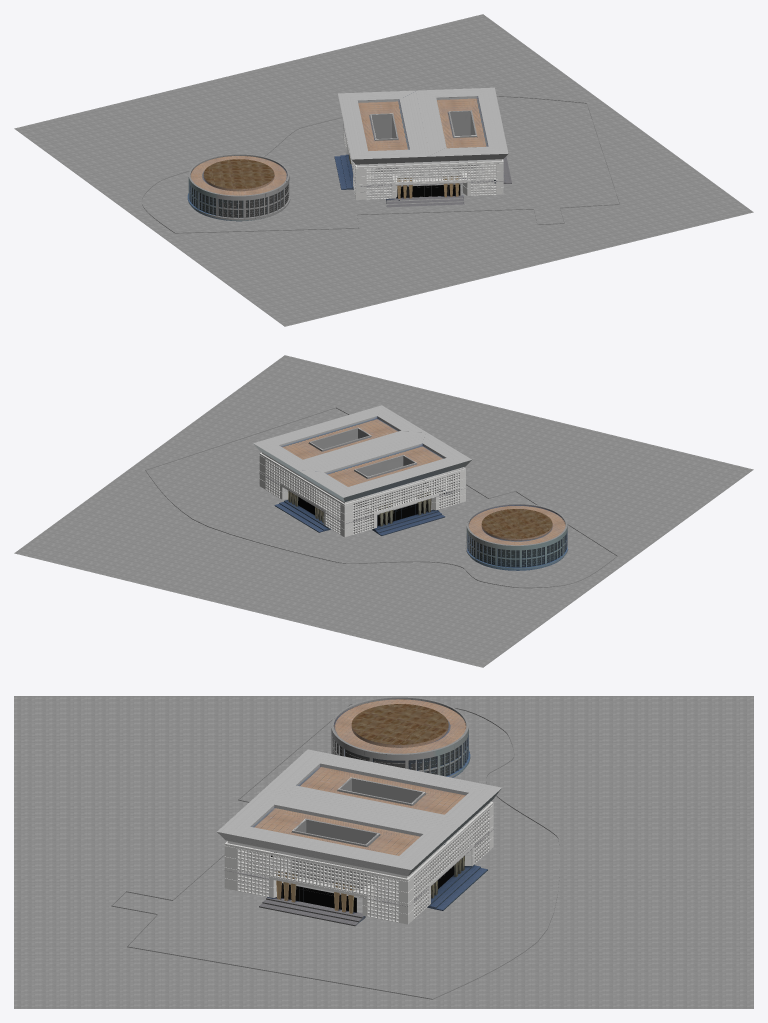
File: target.glb
The picture shows the model from 3 angles, top to bottom: view 1: azimuth 30°, elevation 25°; view 2: azimuth 150°, elevation 25°; view 3: azimuth 270°, elevation 25°; orthographic projection. The views are drawn at different scales.
Parts seen in each view (by area): view 1: Plane001, 纹理, 会议中心000, 白框, 地块边, 纯色; view 2: Plane001, 纹理, 白框, 会议中心000, 地块边, 纯色; view 3: Plane001, 纹理, 白框, 会议中心000, 纯色, 地块边.
Boxes of the visible parts, bbox=[...] form: Plane001: bbox=[14, 14, 753, 326]; 纹理: bbox=[334, 87, 511, 207]; 会议中心000: bbox=[187, 153, 290, 221]; 白框: bbox=[343, 110, 503, 199]; 地块边: bbox=[141, 96, 619, 233]; 纯色: bbox=[349, 153, 460, 200]; Plane001: bbox=[14, 355, 753, 667]; 纹理: bbox=[253, 405, 471, 535]; 白框: bbox=[259, 427, 465, 537]; 会议中心000: bbox=[465, 503, 568, 570]; 地块边: bbox=[145, 407, 617, 588]; 纯色: bbox=[288, 480, 431, 526]; Plane001: bbox=[14, 696, 753, 1008]; 纹理: bbox=[217, 749, 501, 926]; 白框: bbox=[224, 777, 493, 924]; 会议中心000: bbox=[330, 696, 470, 777]; 纯色: bbox=[271, 852, 464, 913]; 地块边: bbox=[111, 704, 559, 999].
Size of the model in its own units: 350 by 34.09 by 350.
Materials: 6 (6 with a texture image).
